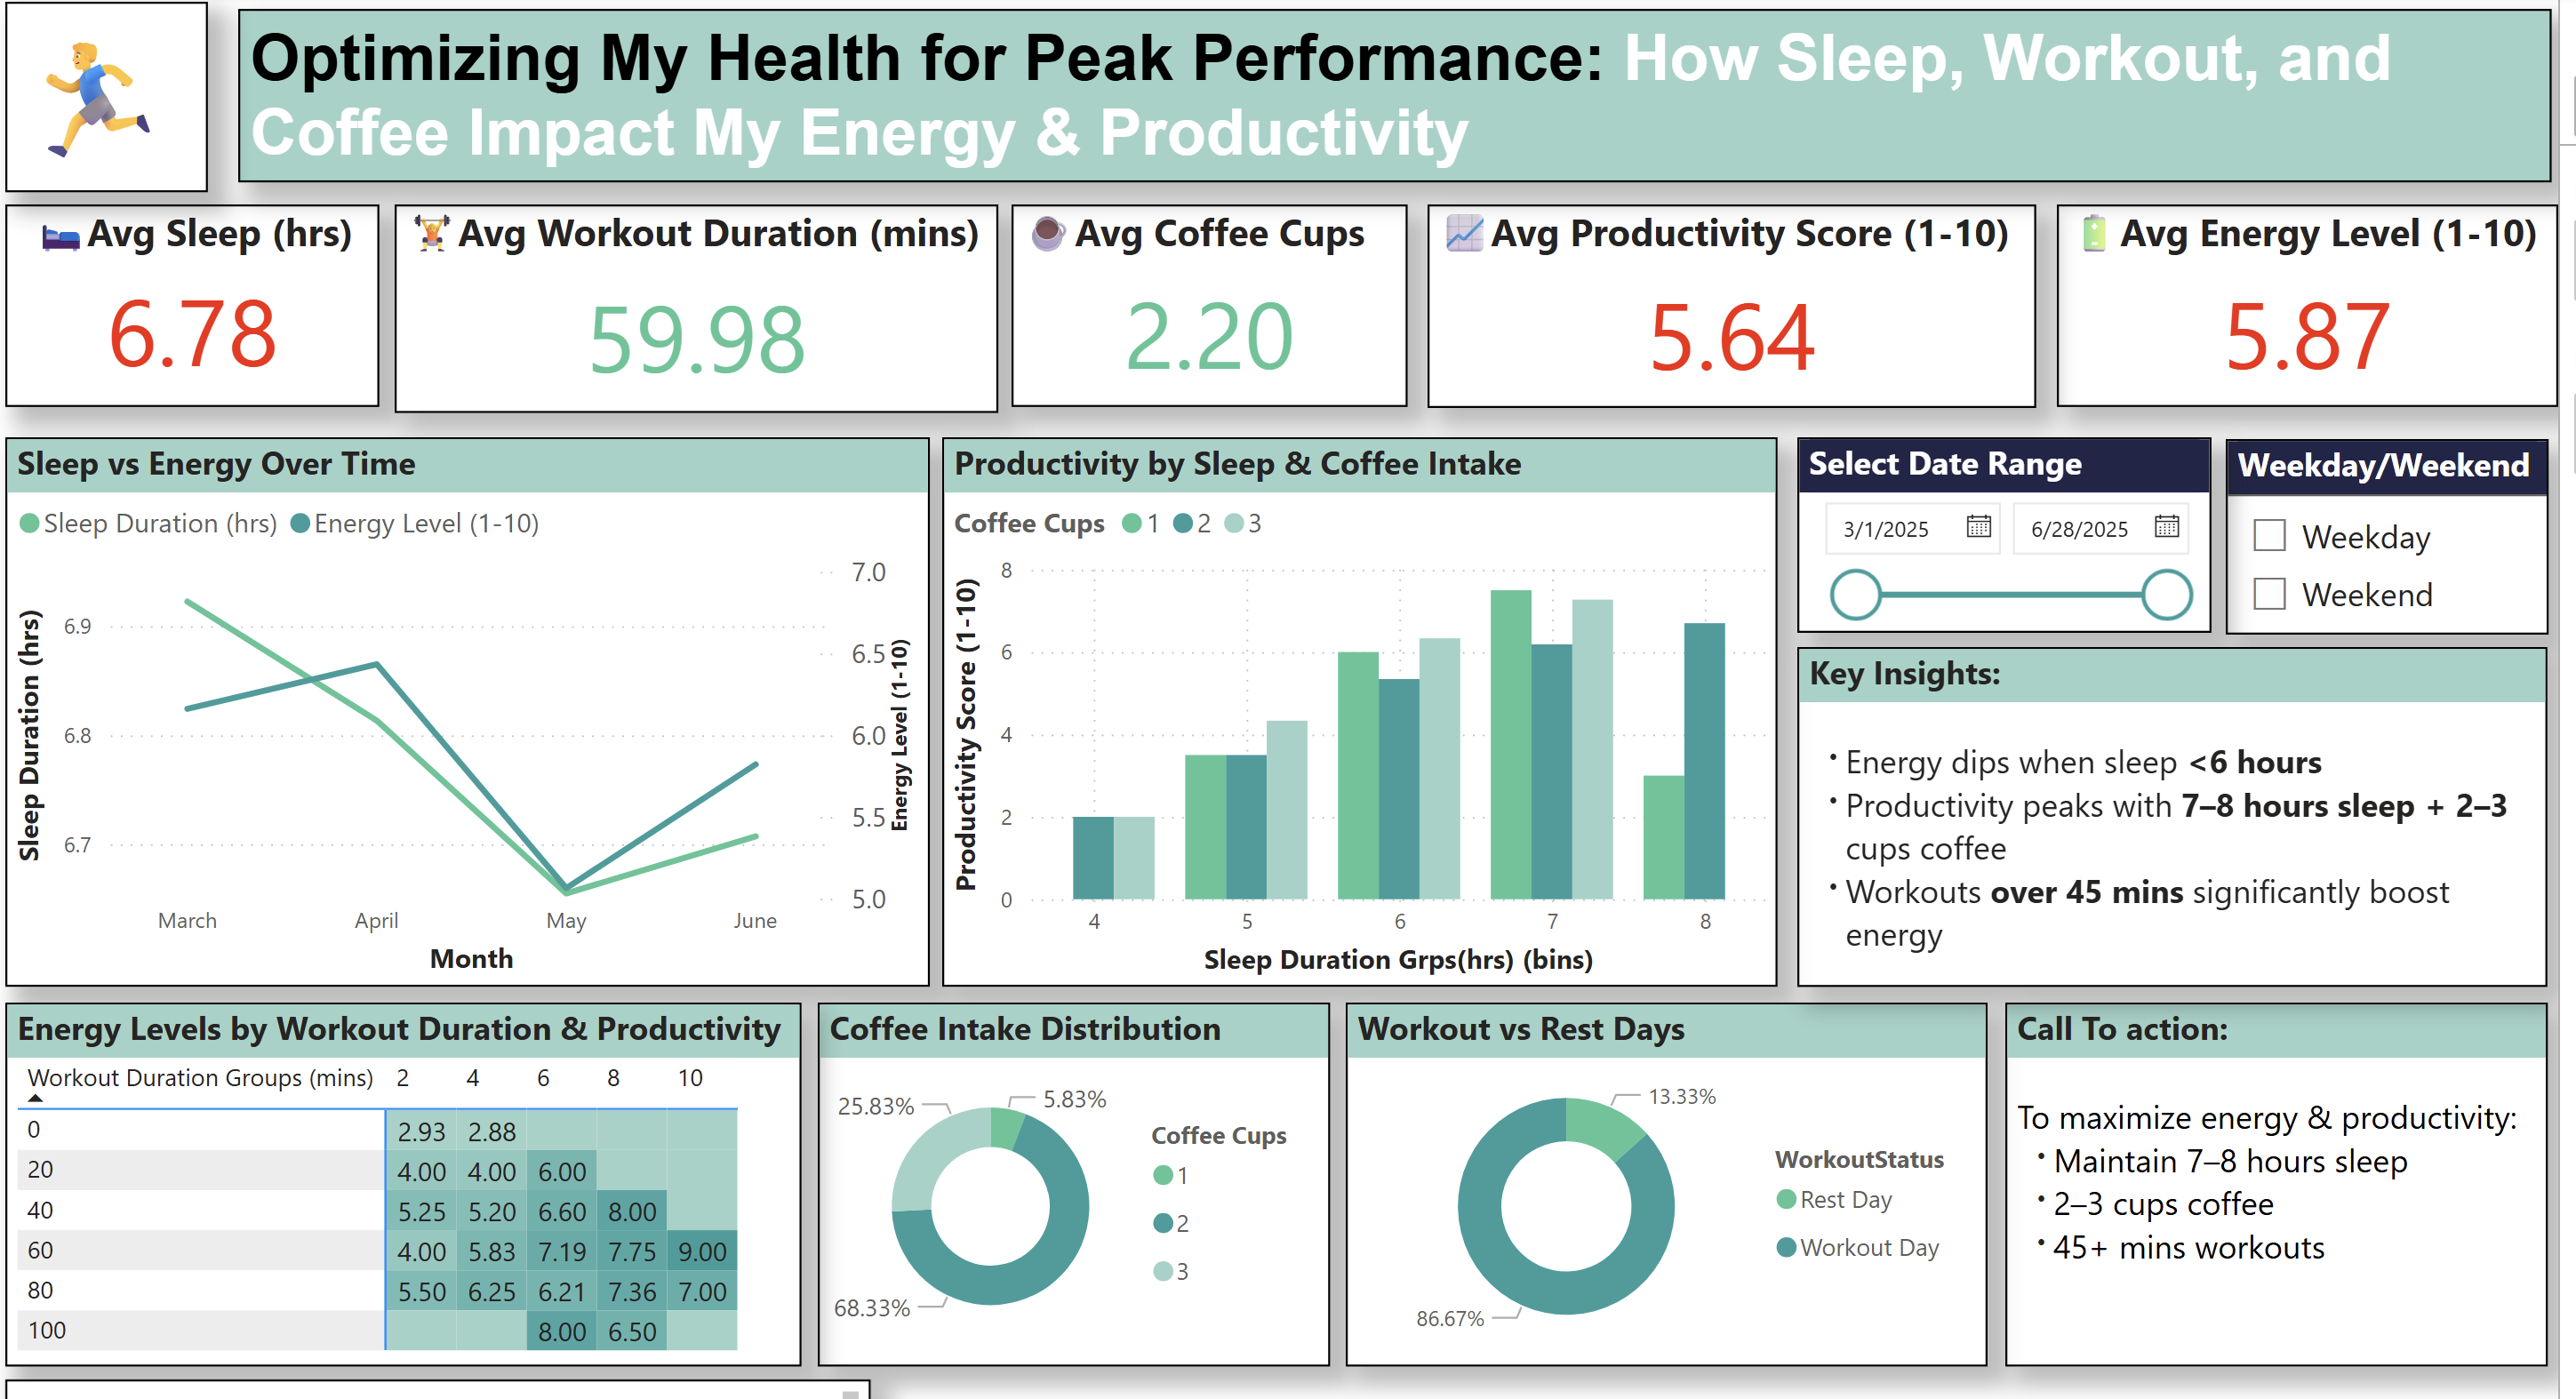

This screenshot's page, from the dashboard's own definition file:
{"tool":"powerbi","page":{"name":"Page 1","canvas":[1280,720],"ordinal":0},"visuals":[{"type":"card","title":"🛏️Avg Sleep (hrs)","fields":{"Values":["Avg(Sheet1.Sleep Duration (hrs))"]},"box":[7.5,105,186.7,100.8],"z":0},{"type":"card","title":"🏋️Avg Workout Duration (mins)","fields":{"Values":["Avg(Sheet1.Workout Duration (mins))"]},"box":[200.8,105,300.8,104.2],"z":1000},{"type":"card","title":"☕Avg Coffee Cups","fields":{"Values":["Avg(Sheet1.Coffee Cups)"]},"box":[509.2,105,197.5,100.8],"z":2000},{"type":"card","title":"🔋Avg Energy Level (1-10)","fields":{"Values":["Avg(Sheet1.Energy Level (1-10))"]},"box":[1030,105,250,100.8],"z":3000},{"type":"card","title":"📈Avg Productivity Score (1-10)","fields":{"Values":["Avg(Sheet1.Productivity Score (1-10))"]},"box":[716.7,104.2,303.3,101.7],"z":4000},{"type":"lineChart","title":"Sleep vs Energy Over Time","fields":{"Y":["Avg(Sheet1.Sleep Duration (hrs))"],"Y2":["Avg(Sheet1.Energy Level (1-10))"],"Category":["Sheet1.Date.Variation.Date Hierarchy.Month","Sheet1.Date.Variation.Date Hierarchy.Day"]},"box":[7.1,220.7,460.9,273.9],"z":5000},{"type":"clusteredColumnChart","title":"Productivity by Sleep & Coffee Intake","fields":{"Y":["Avg(Sheet1.Productivity Score (1-10))"],"Category":["Sheet1.Sleep Duration (hrs) (bins)"],"Series":["Sheet1.Coffee Cups"]},"box":[474.2,220.8,416.7,274.2],"z":6000},{"type":"donutChart","title":"Coffee Intake Distribution","fields":{"Y":["CountNonNull(Sheet1.Date)"],"Series":["Sheet1.Coffee Cups"]},"box":[412.2,502.6,255.3,181.7],"z":7000},{"type":"donutChart","title":"Workout vs Rest Days","fields":{"Series":["Sheet1.WorkoutStatus"],"Y":["CountNonNull(Sheet1.Date)"]},"box":[675.5,502.6,320,181.7],"z":8000},{"type":"slicer","title":"Weekday/Weekend","fields":{"Values":["Sheet1.DayType"]},"box":[1114.2,221.7,160.8,97.5],"z":9000},{"type":"textbox","box":[123.3,7.5,1153.3,86.7],"z":10000},{"type":"slicer","title":"Select Date Range","fields":{"Values":["Sheet1.Date"]},"box":[900.8,220.8,206.7,97.5],"z":11000},{"type":"textbox","title":"Call To action:","box":[1004.3,502.6,270.4,181.7],"z":12000},{"type":"pivotTable","title":"Energy Levels by Workout Duration & Productivity","fields":{"Rows":["Sheet1.Workout Duration (mins) (bins)"],"Values":["Avg(Sheet1.Energy Level (1-10))"],"Columns":["Sheet1.Productivity Score Group"]},"box":[7.1,502.6,397.1,181.7],"z":13000},{"type":"textbox","title":"Key Insights:","box":[900.9,325.2,373.9,169.4],"z":14000},{"type":"textbox","box":[7.1,690.5,431.7,29.3],"z":15000},{"type":"textbox","box":[7.5,3.3,100.8,95],"z":16000}]}

Visuals, with their boxes in screenshot pixels (x1, y1, x2, y2):
"🛏️Avg Sleep (hrs)" card: (15, 203, 387, 403)
"🏋️Avg Workout Duration (mins)" card: (400, 203, 998, 410)
"☕Avg Coffee Cups" card: (1014, 203, 1407, 403)
"🔋Avg Energy Level (1-10)" card: (2051, 203, 2548, 403)
"📈Avg Productivity Score (1-10)" card: (1427, 201, 2031, 404)
"Sleep vs Energy Over Time" lineChart: (14, 433, 932, 978)
"Productivity by Sleep & Coffee Intake" clusteredColumnChart: (944, 433, 1773, 979)
"Coffee Intake Distribution" donutChart: (820, 994, 1329, 1355)
"Workout vs Rest Days" donutChart: (1345, 994, 1982, 1355)
"Weekday/Weekend" slicer: (2219, 435, 2539, 628)
textbox: (245, 8, 2541, 180)
"Select Date Range" slicer: (1794, 433, 2205, 627)
"Call To action:" textbox: (1999, 994, 2538, 1355)
"Energy Levels by Workout Duration & Productivity" pivotTable: (14, 994, 804, 1355)
"Key Insights:" textbox: (1794, 641, 2538, 978)
textbox: (14, 1368, 874, 1398)
textbox: (15, 0, 216, 189)
